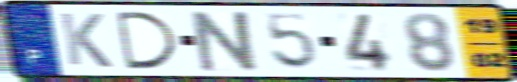4: (342, 11, 395, 73)
5: (263, 12, 321, 71)
8: (401, 11, 458, 74)
D: (112, 9, 182, 71)
K: (56, 11, 115, 70)
N: (190, 9, 263, 74)
